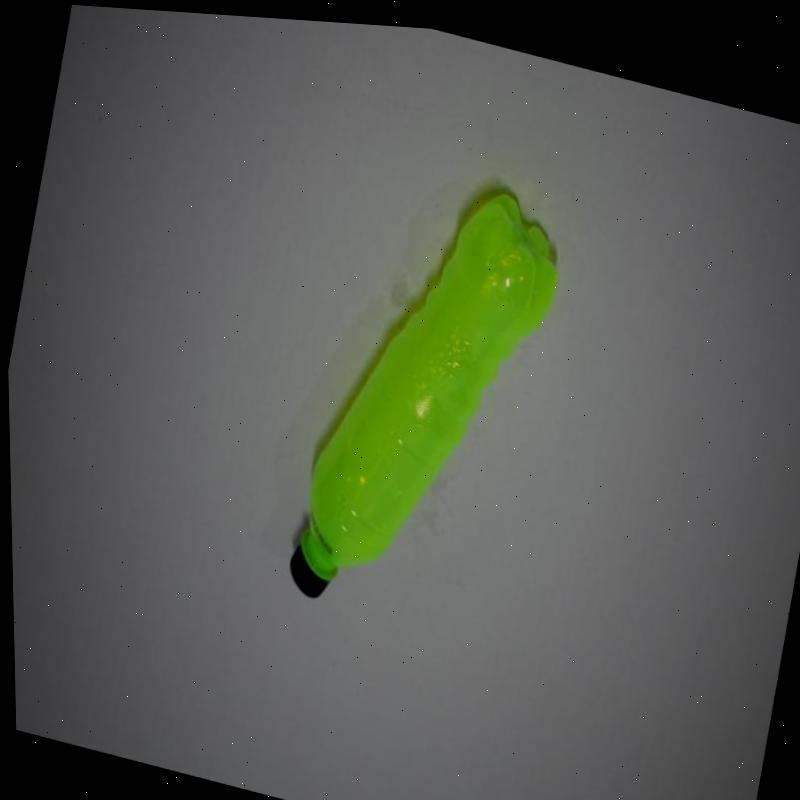botella: (271, 141, 579, 644)
